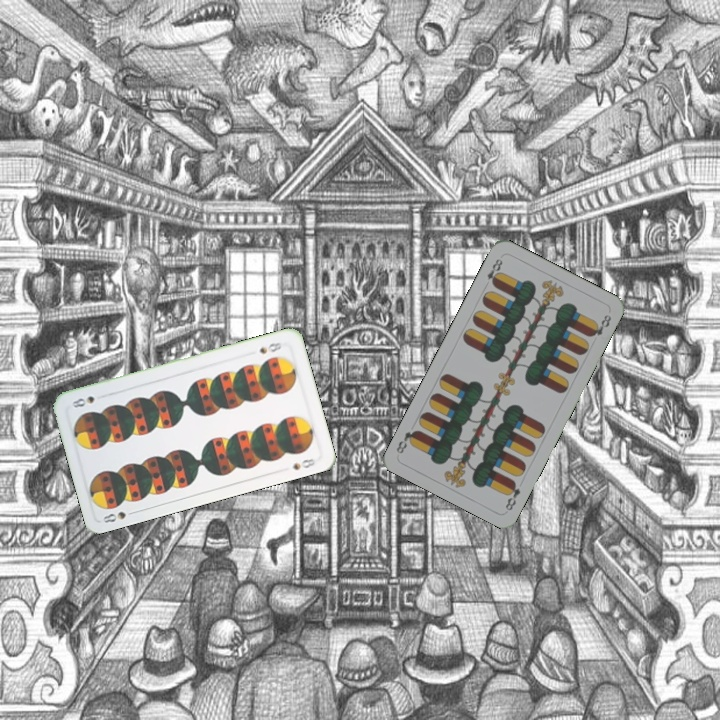E8: (501, 477, 523, 513), (483, 254, 505, 288)
S8: (99, 507, 139, 525), (255, 338, 284, 356)
